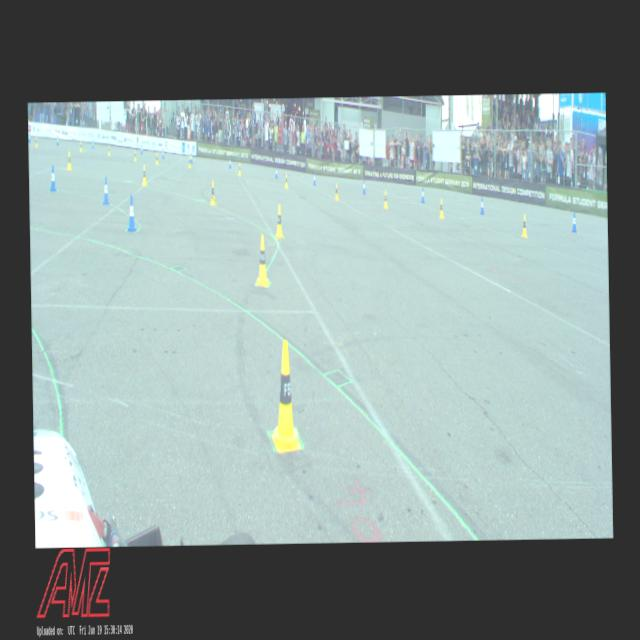blue_cone: (126, 194, 137, 232), (102, 176, 109, 204), (49, 165, 56, 191), (571, 211, 577, 232), (479, 197, 484, 214), (362, 178, 366, 194), (420, 186, 424, 202), (274, 165, 278, 178), (312, 172, 316, 185), (28, 132, 31, 142), (228, 156, 230, 168), (190, 152, 192, 163), (140, 144, 142, 154), (162, 148, 164, 158), (56, 136, 58, 145), (92, 139, 94, 148)
yellow_cone: (270, 340, 300, 452), (256, 234, 268, 286), (275, 204, 283, 238), (210, 180, 216, 205), (521, 214, 527, 238), (438, 198, 444, 218), (66, 152, 72, 170), (142, 164, 146, 186), (383, 190, 387, 208), (334, 183, 338, 200), (284, 173, 288, 188), (238, 162, 241, 175), (108, 144, 110, 156), (156, 152, 158, 164), (188, 156, 190, 168), (35, 136, 37, 147), (134, 149, 136, 160), (80, 141, 82, 151)
